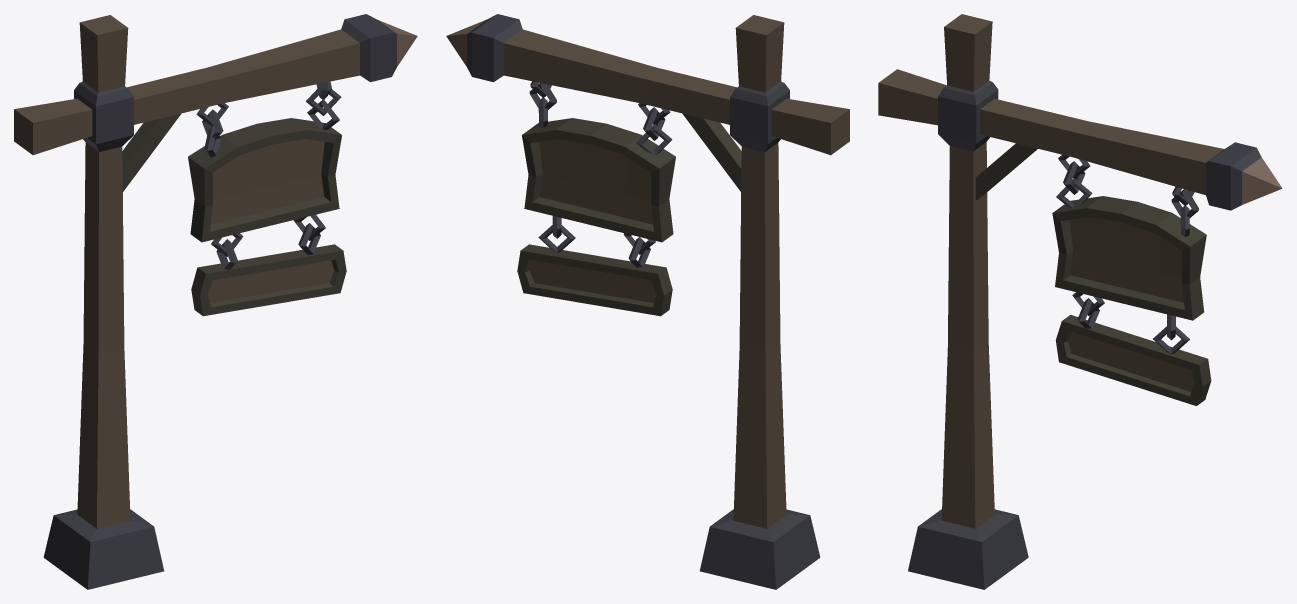
The model's file is sign.fbx.
3 renders of one model, left to right at view 1: azimuth 30°, elevation 25°; view 2: azimuth 150°, elevation 25°; view 3: azimuth 330°, elevation 25°, orthographic.
Parts seen in each view (by area): view 1: pCube243; view 2: pCube243; view 3: pCube243.
Part boxes in pixels (<box>): pCube243: <box>14,14,417,589</box>; pCube243: <box>446,14,849,589</box>; pCube243: <box>878,14,1282,589</box>.
Size of the model in its own units: 7.55 by 9.86 by 1.47.
